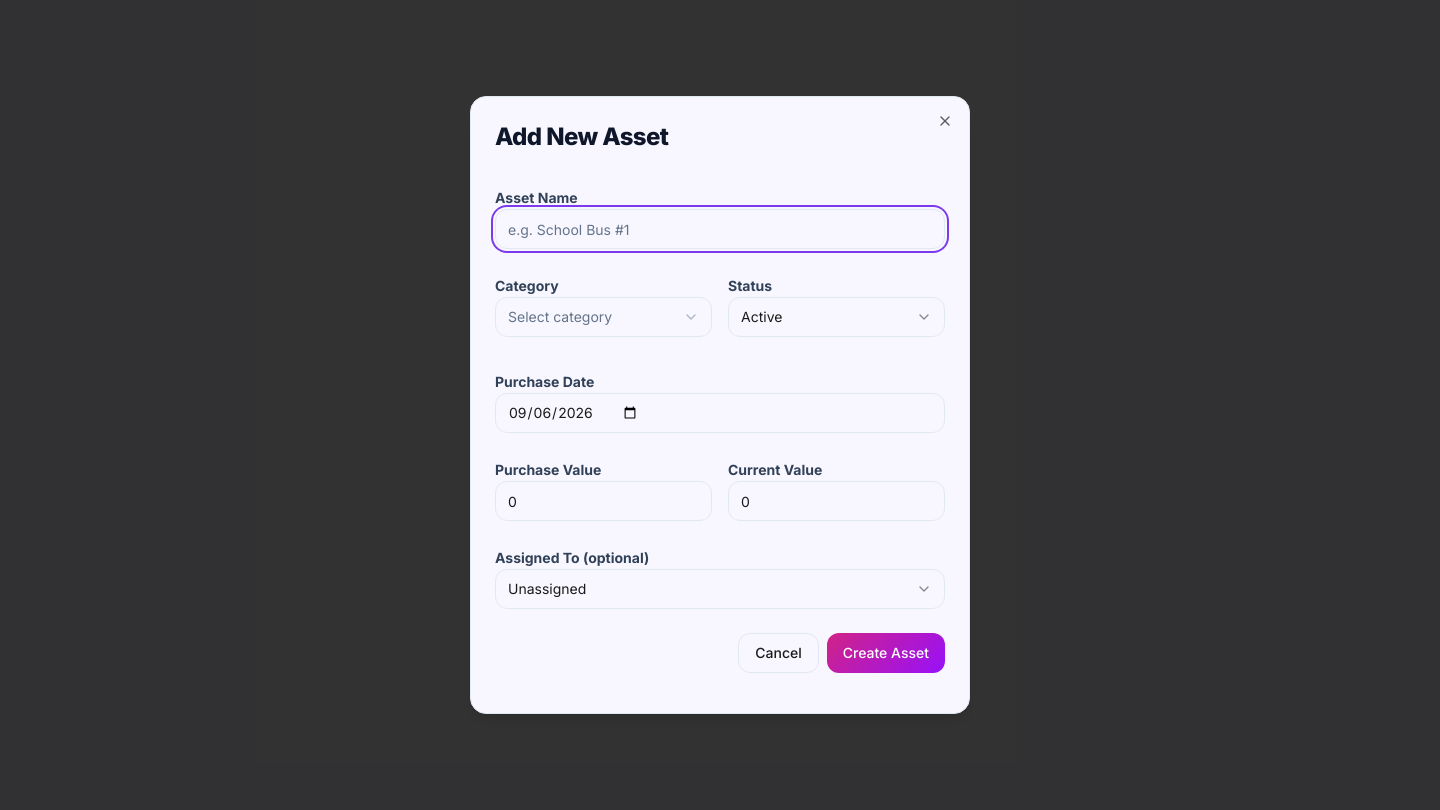
Test: AssetDialog › shows a validation error when the asset name is too short on submit
Click the button "Create Asset": (886, 653) [827,633,945,673]
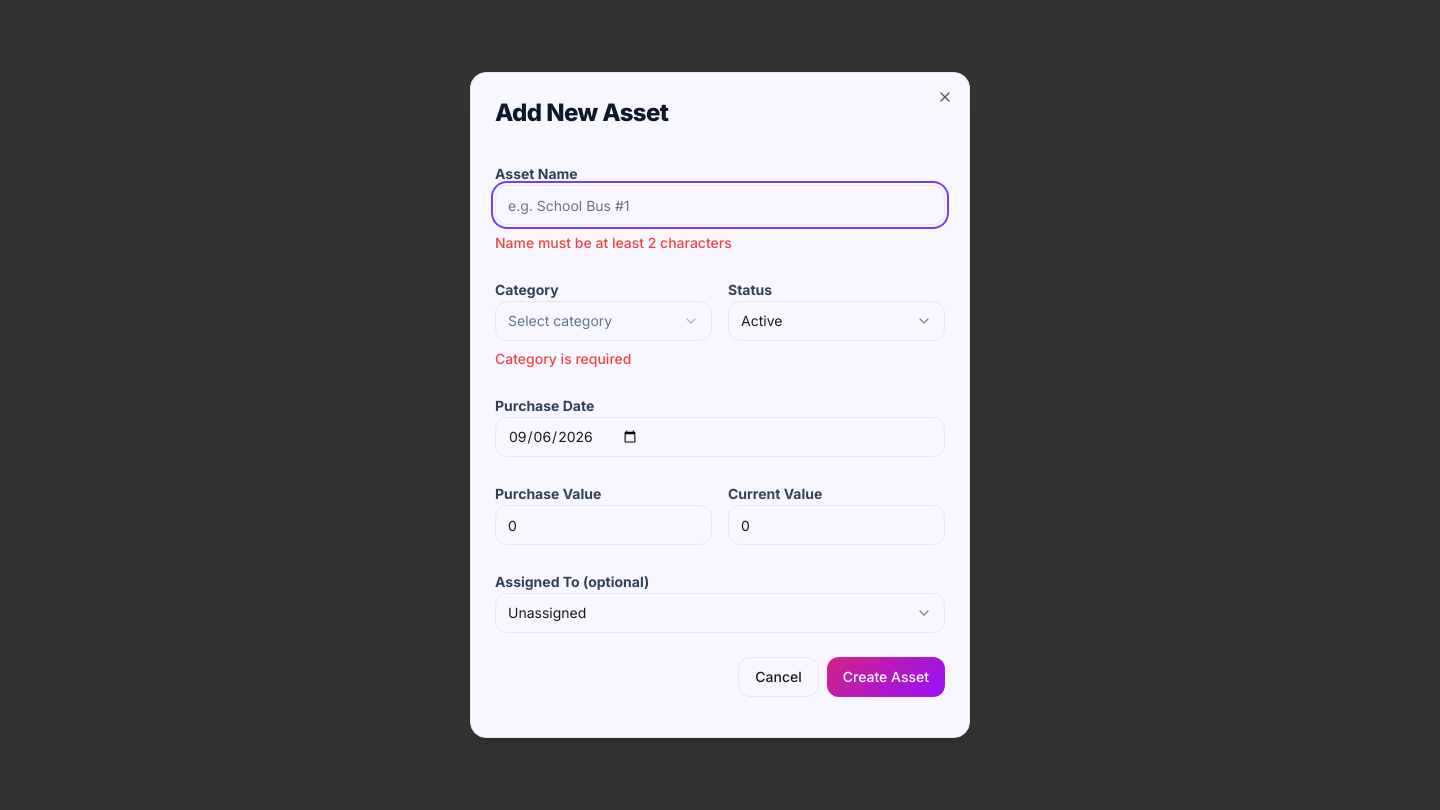
Expected: the text "Name must be at least 2 characters" is shown, [495,234,732,251]
